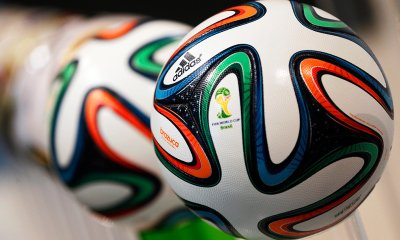football: (149, 2, 395, 239), (52, 23, 189, 223)
